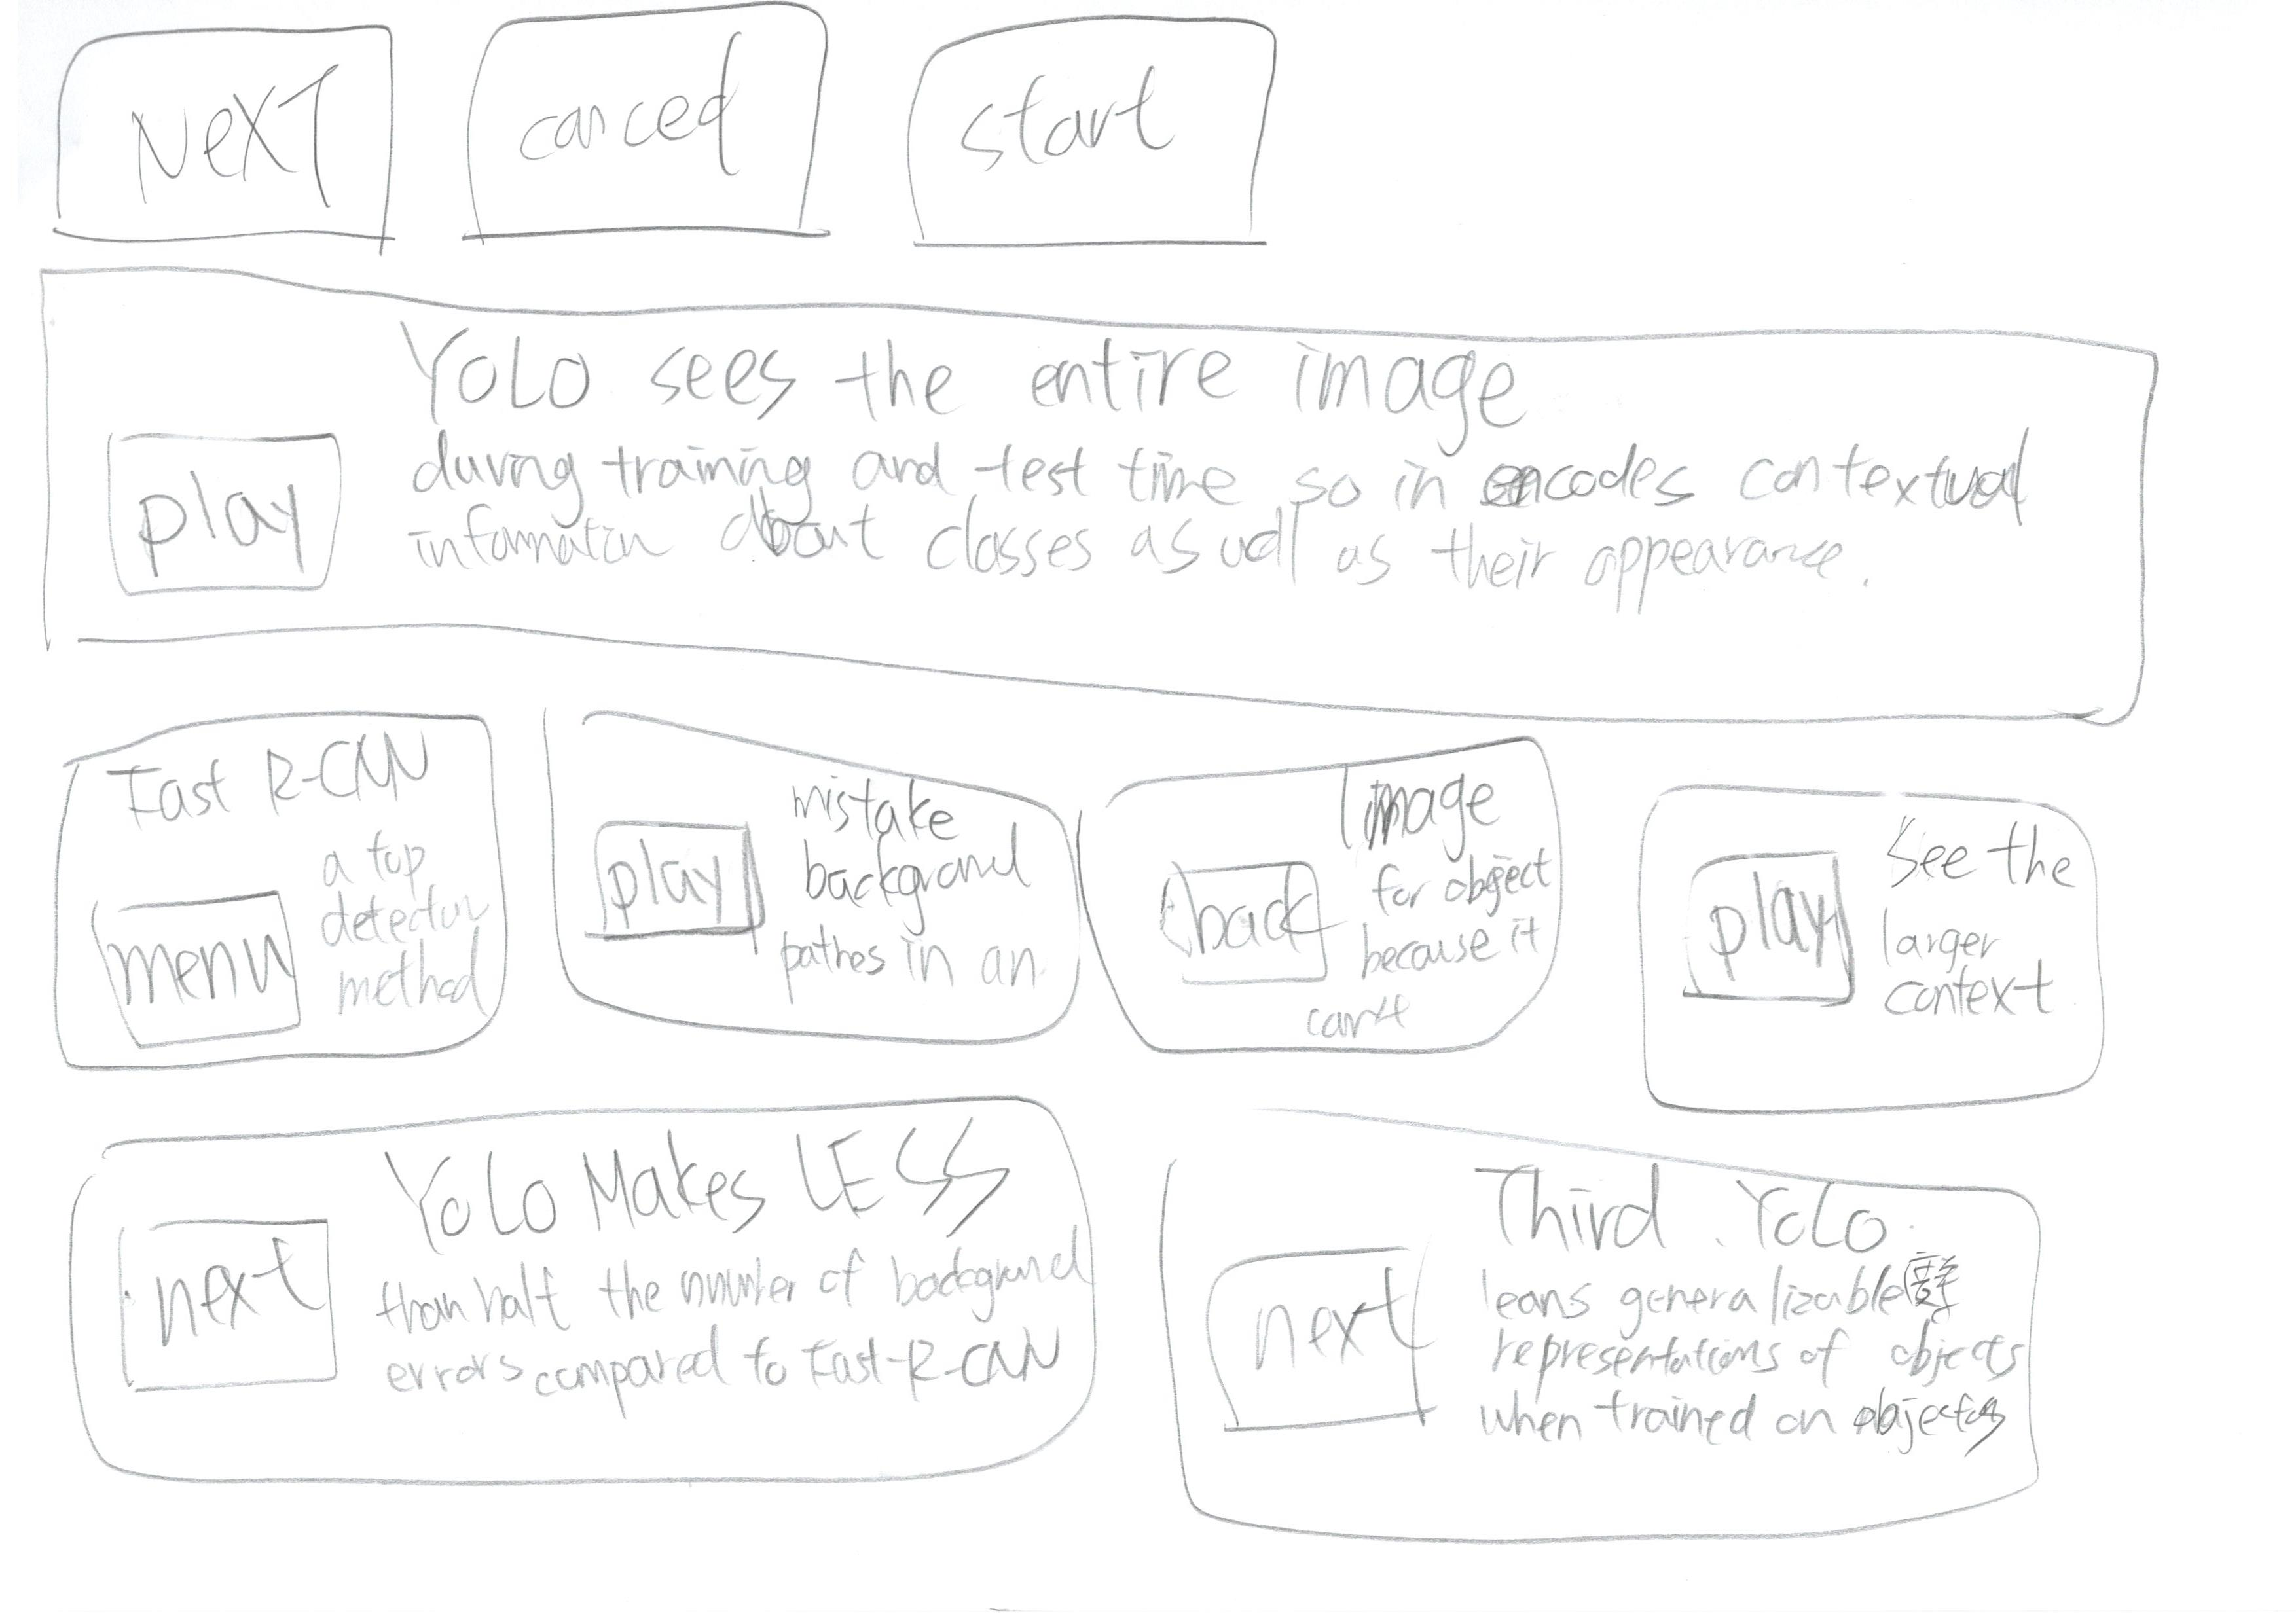back: (1120, 826, 1368, 1018)
cancel: (457, 0, 849, 264)
double: (1139, 1083, 2168, 1573), (18, 1069, 1115, 1499)
menu: (65, 877, 320, 1063)
next: (28, 0, 434, 267), (1188, 1207, 1447, 1457), (91, 1183, 362, 1408)
play: (83, 381, 378, 620), (1670, 826, 1876, 1051), (584, 789, 779, 958)
quadruple: (520, 670, 1108, 1088), (1057, 685, 1603, 1116), (14, 677, 531, 1090), (1614, 747, 2140, 1128)
row: (0, 633, 2296, 1139), (0, 1090, 2296, 1596), (0, 255, 2296, 759), (11, 0, 2296, 295)
single: (12, 241, 2252, 756)
small-title: (385, 327, 1544, 450), (376, 1118, 1013, 1227), (1471, 1146, 1893, 1267), (800, 770, 1027, 902), (109, 743, 432, 814), (1893, 814, 2064, 907), (1350, 756, 1498, 837)
start: (877, 0, 1338, 274)
text: (397, 429, 2045, 613), (367, 1218, 1078, 1441), (1477, 1272, 2046, 1468), (308, 816, 478, 1007), (1361, 858, 1544, 1028), (1878, 919, 2078, 1058), (777, 919, 1032, 1014)
